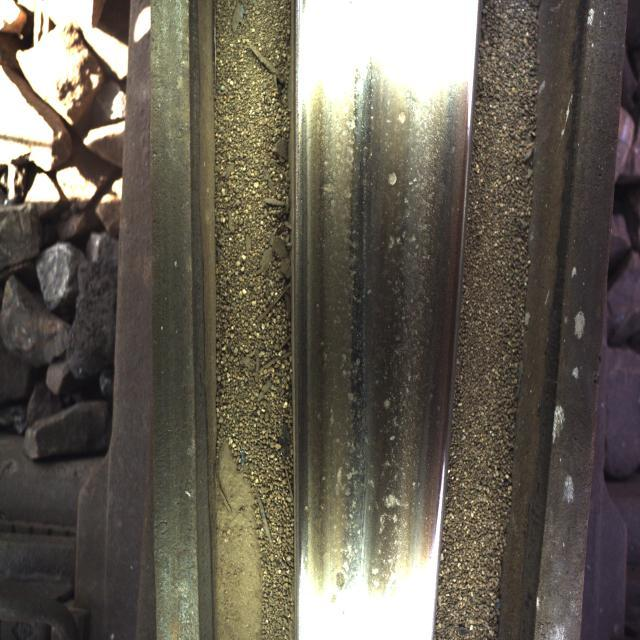scar: (362, 50, 438, 579)
